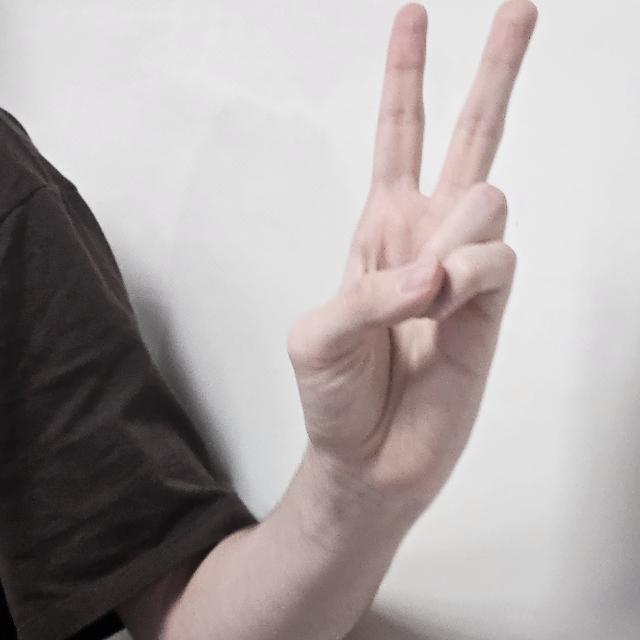Triangulo: (290, 7, 526, 495)
